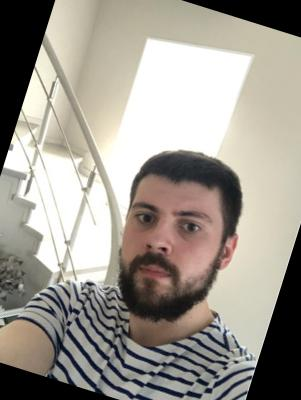without_mask: (100, 186, 228, 334)
